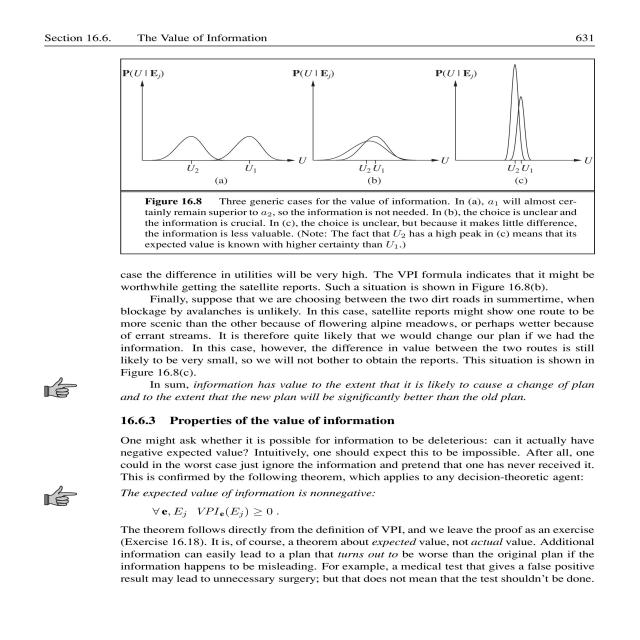diagram: (118, 56, 621, 253)
